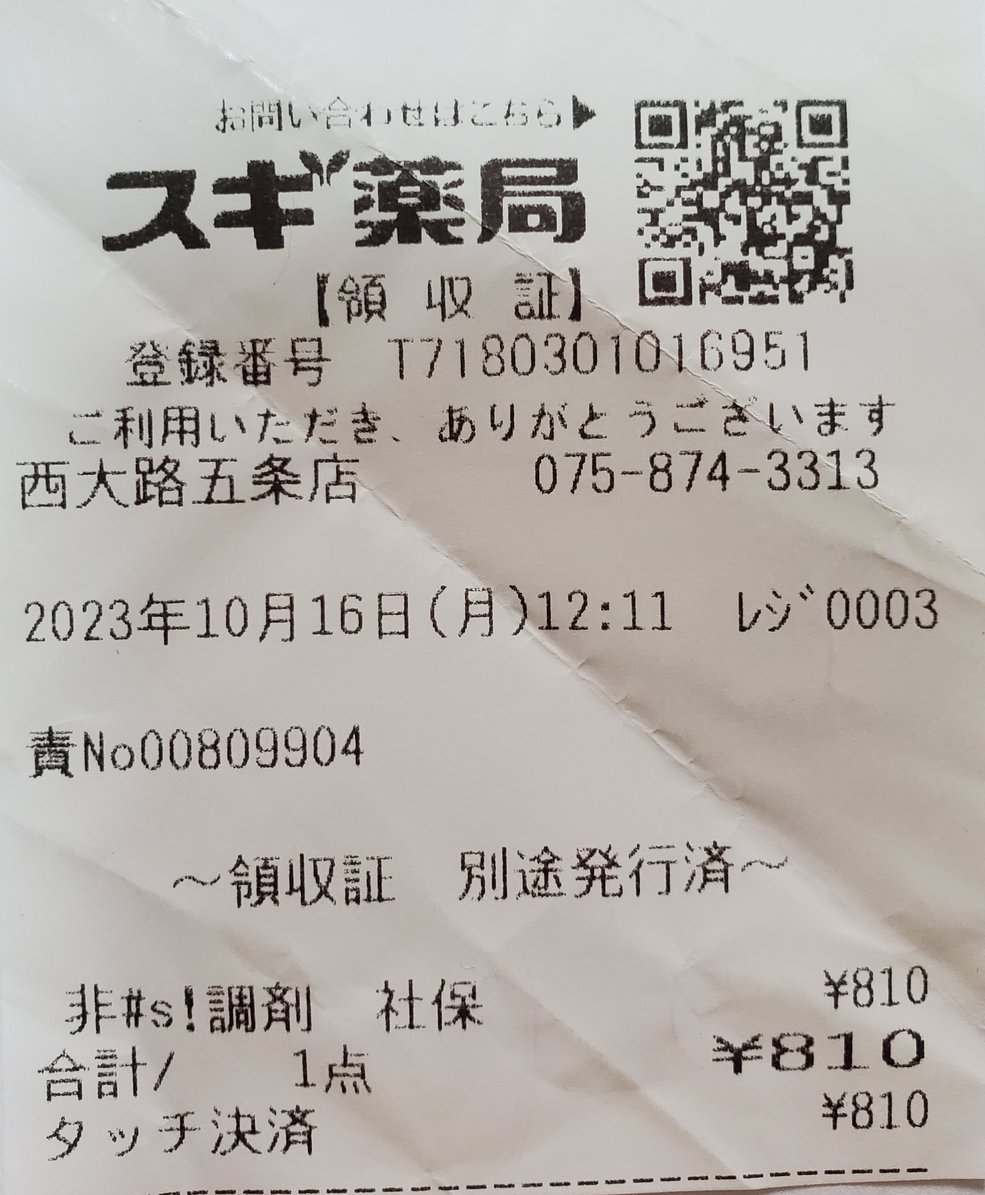Date: (36, 579, 418, 648)
Shopname: (72, 128, 623, 262)
Telnum: (532, 446, 889, 506)
Totalpay: (17, 1025, 962, 1095)
